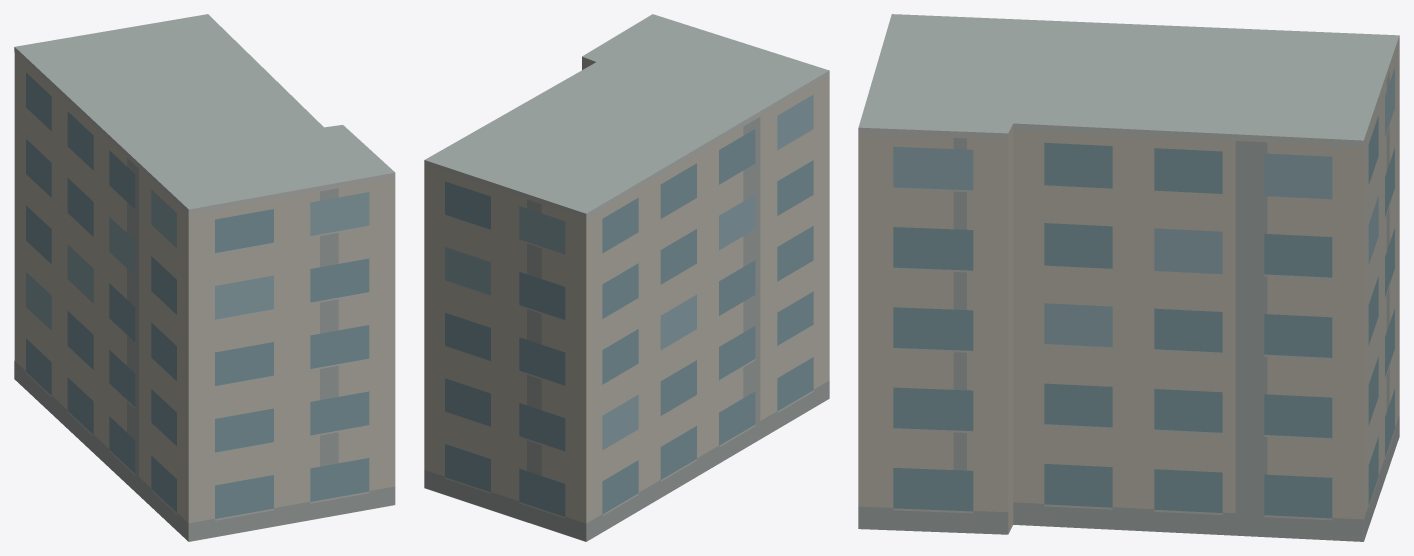
The model's file is survey-upis-32820027.glb.
3 renders of one model, left to right at view 1: azimuth 30°, elevation 25°; view 2: azimuth 150°, elevation 25°; view 3: azimuth 270°, elevation 25°, orthographic. The views are drawn at different scales.
Parts seen in each view (by area): view 1: survey-upis-32820027.tmp; view 2: survey-upis-32820027.tmp; view 3: survey-upis-32820027.tmp.
Boxes of the visible parts, left/top/right/bottom form: survey-upis-32820027.tmp: left=14, top=14, right=395, bottom=541; survey-upis-32820027.tmp: left=424, top=14, right=829, bottom=541; survey-upis-32820027.tmp: left=858, top=14, right=1399, bottom=541.
Bounding box in the file's own units: 10.09 × 14.9 × 18.22.
